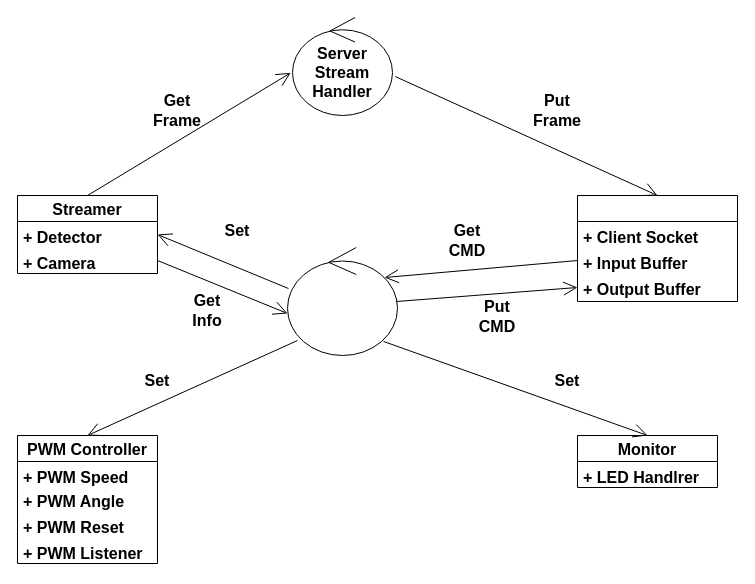
Some shapes in this 755 by 584 pixel diagram are drawn without their labels. Each missing label, with the box of its shape:
Connection: (576, 194, 738, 302)
Server Event Handler: (286, 246, 398, 356)
